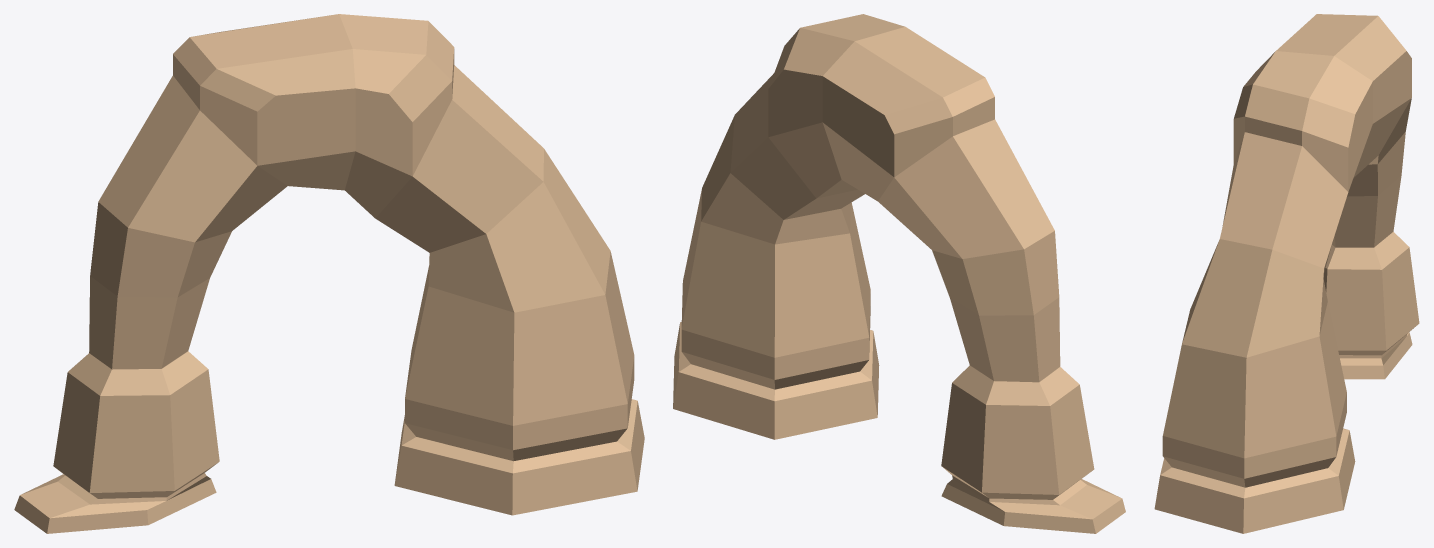
Rendered from Rock_Arch_02.fbx.
The picture shows the model from 3 angles, left to right: view 1: azimuth 30°, elevation 25°; view 2: azimuth 150°, elevation 25°; view 3: azimuth 270°, elevation 25°; orthographic projection. The views are drawn at different scales.
Visible parts, largest first — view 1: Rock_Arch_02; view 2: Rock_Arch_02; view 3: Rock_Arch_02.
Part boxes in pixels (x1,y1,x2,y2): Rock_Arch_02: [14, 14, 644, 533]; Rock_Arch_02: [673, 14, 1125, 533]; Rock_Arch_02: [1154, 14, 1419, 533].
Size of the model in its own units: 1040 by 811 by 520.
